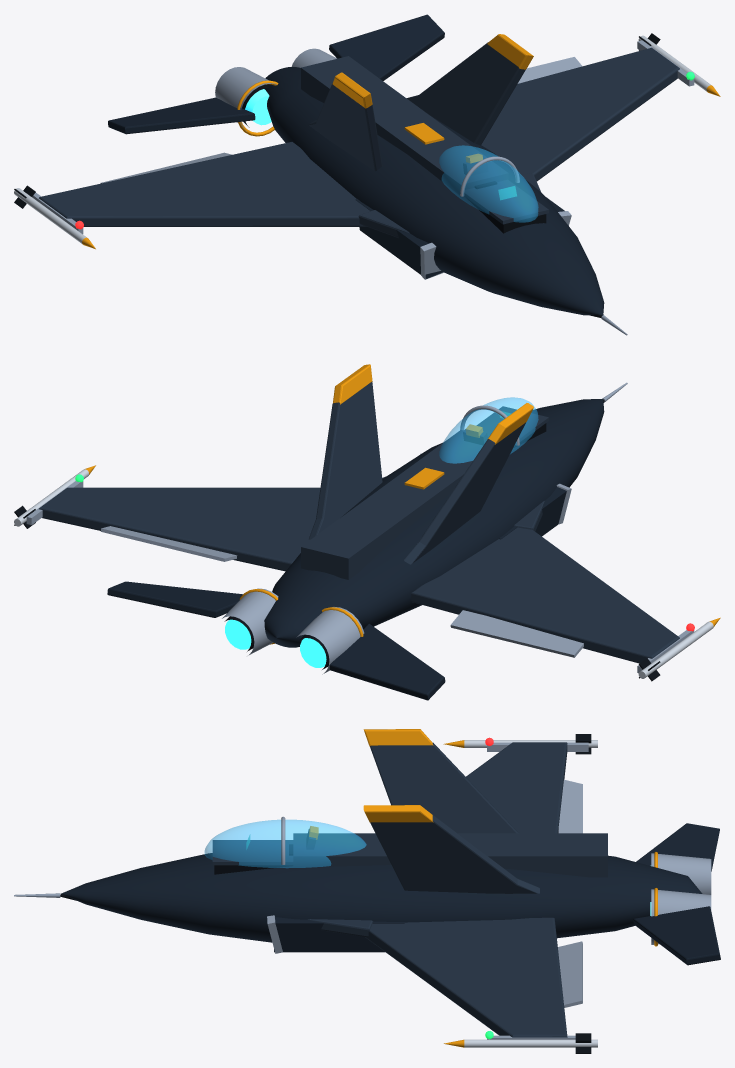
File: federation_jet.glb
The picture shows the model from 3 angles, top to bottom: view 1: azimuth 30°, elevation 25°; view 2: azimuth 150°, elevation 25°; view 3: azimuth 270°, elevation 25°; orthographic projection.
Visible parts, largest first — view 1: Main_Stealth_Fuselage, Port_Delta_Wing, Starboard_Delta_Wing, Dorsal_Avionics_Spine, Starboard_Canted_Vertical_Tail, Bubble_Canopy_Glass, Starboard_Horizontal_Stabilator, Falcon_X9_Stealth_Jet, Port_Canted_Vertical_Tail, Port_Horizontal_Stabilator, Port_Turbofan_Engine, Port_Afterburner_Nozzle (+9 smaller); view 2: Main_Stealth_Fuselage, Port_Delta_Wing, Starboard_Delta_Wing, Dorsal_Avionics_Spine, Starboard_Canted_Vertical_Tail, Port_Horizontal_Stabilator, Port_Canted_Vertical_Tail, Bubble_Canopy_Glass, Starboard_Horizontal_Stabilator, Port_Aileron_Pivot, Falcon_X9_Stealth_Jet, Port_Afterburner_Nozzle (+9 smaller); view 3: Main_Stealth_Fuselage, Starboard_Delta_Wing, Dorsal_Avionics_Spine, Starboard_Canted_Vertical_Tail, Port_Canted_Vertical_Tail, Port_Delta_Wing, Bubble_Canopy_Glass, Starboard_Horizontal_Stabilator, Starboard_Turbofan_Engine, Falcon_X9_Stealth_Jet, Port_Horizontal_Stabilator, Starboard_Wingtip_Missile (+8 smaller).
Part boxes in pixels (bbox=[...]): Main_Stealth_Fuselage: bbox=[264, 67, 604, 315]; Port_Delta_Wing: bbox=[39, 142, 370, 226]; Starboard_Delta_Wing: bbox=[481, 47, 679, 181]; Dorsal_Avionics_Spine: bbox=[301, 56, 508, 195]; Starboard_Canted_Vertical_Tail: bbox=[406, 42, 525, 145]; Bubble_Canopy_Glass: bbox=[439, 145, 538, 222]; Starboard_Horizontal_Stabilator: bbox=[329, 14, 444, 80]; Falcon_X9_Stealth_Jet: bbox=[32, 40, 694, 335]; Port_Canted_Vertical_Tail: bbox=[308, 83, 382, 171]; Port_Horizontal_Stabilator: bbox=[108, 97, 255, 134]; Port_Turbofan_Engine: bbox=[237, 80, 443, 279]; Port_Afterburner_Nozzle: bbox=[215, 67, 276, 131]; Main_Stealth_Fuselage: bbox=[264, 399, 604, 647]; Port_Delta_Wing: bbox=[411, 527, 679, 663]; Starboard_Delta_Wing: bbox=[39, 487, 320, 571]; Dorsal_Avionics_Spine: bbox=[301, 430, 488, 579]; Starboard_Canted_Vertical_Tail: bbox=[308, 381, 382, 539]; Port_Horizontal_Stabilator: bbox=[329, 623, 445, 700]; Port_Canted_Vertical_Tail: bbox=[404, 422, 525, 564]; Bubble_Canopy_Glass: bbox=[439, 397, 538, 463]; Starboard_Horizontal_Stabilator: bbox=[107, 581, 242, 617]; Port_Aileron_Pivot: bbox=[450, 610, 583, 657]; Falcon_X9_Stealth_Jet: bbox=[26, 382, 694, 673]; Port_Afterburner_Nozzle: bbox=[296, 607, 364, 674]; Main_Stealth_Fuselage: bbox=[61, 853, 702, 942]; Starboard_Delta_Wing: bbox=[365, 917, 567, 1037]; Dorsal_Avionics_Spine: bbox=[293, 833, 607, 877]; Starboard_Canted_Vertical_Tail: bbox=[370, 815, 539, 893]; Port_Canted_Vertical_Tail: bbox=[370, 742, 519, 833]; Port_Delta_Wing: bbox=[466, 742, 567, 833]; Bubble_Canopy_Glass: bbox=[204, 819, 366, 868]; Starboard_Horizontal_Stabilator: bbox=[633, 906, 720, 965]; Starboard_Turbofan_Engine: bbox=[267, 888, 657, 953]; Falcon_X9_Stealth_Jet: bbox=[14, 737, 588, 1039]; Port_Horizontal_Stabilator: bbox=[636, 823, 719, 871]; Starboard_Wingtip_Missile: bbox=[444, 1033, 597, 1053].
Size of the model in its own units: 7.49 by 1.93 by 7.3.
